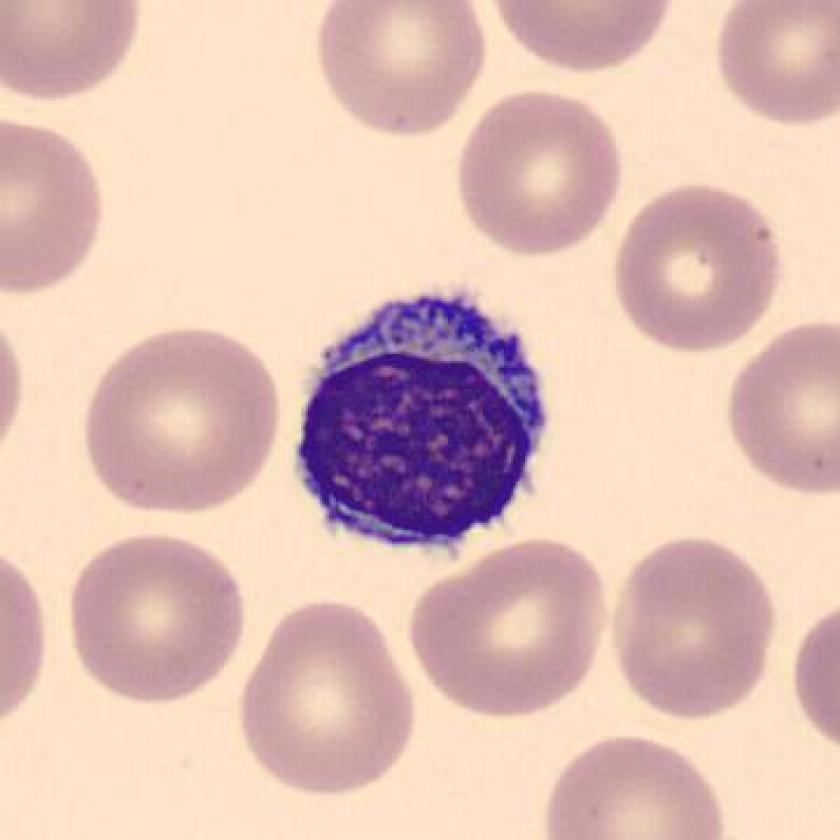lymphocyte: (272, 277, 568, 564)
